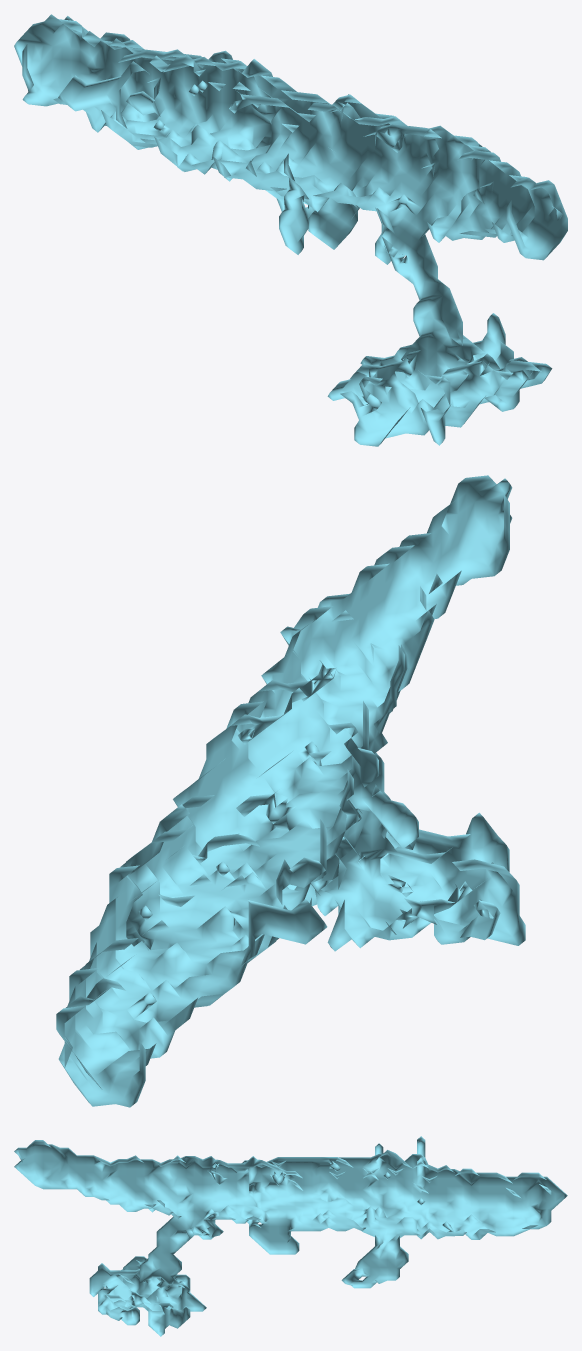
Rendered from osteocyte_88.glb.
3 renders of one model, top to bottom at view 1: azimuth 30°, elevation 25°; view 2: azimuth 150°, elevation 25°; view 3: azimuth 270°, elevation 25°, orthographic. The views are drawn at different scales.
Parts seen in each view (by area): view 1: osteocyte_88; view 2: osteocyte_88; view 3: osteocyte_88.
Boxes of the visible parts, bbox=[...] form: osteocyte_88: bbox=[14, 14, 567, 446]; osteocyte_88: bbox=[56, 475, 525, 1107]; osteocyte_88: bbox=[14, 1136, 567, 1336].
Size of the model in its own units: 9.84 by 10.73 by 29.51.
